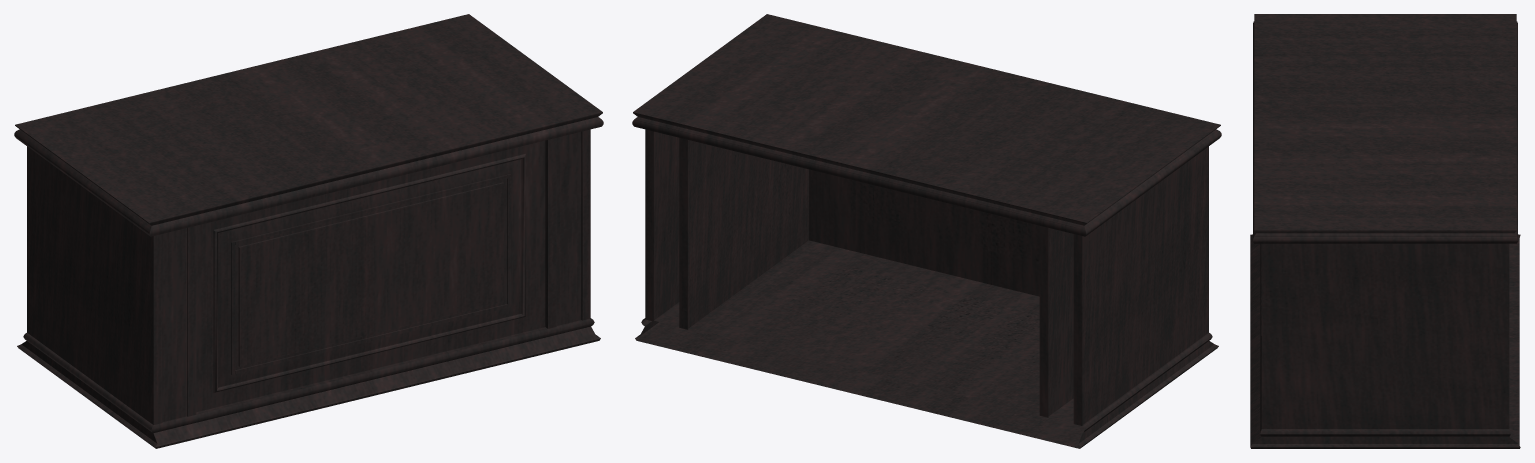
Rendered from office_table_-_mesa_de_escritorio.glb.
3 views of the same model, side by side, from view 1: azimuth 30°, elevation 25°; view 2: azimuth 150°, elevation 25°; view 3: azimuth 270°, elevation 25° (orthographic). The views are drawn at different scales.
Visible parts, largest first — view 1: Object_3; view 2: Object_3; view 3: Object_3.
Boxes of the visible parts, x1,y1,x2,y2 form: Object_3: (14, 14, 603, 448); Object_3: (632, 14, 1221, 448); Object_3: (1250, 14, 1520, 448).
Bounding box in the file's own units: 143 × 68.05 × 75.43.
Materials: 1 (1 with a texture image).
